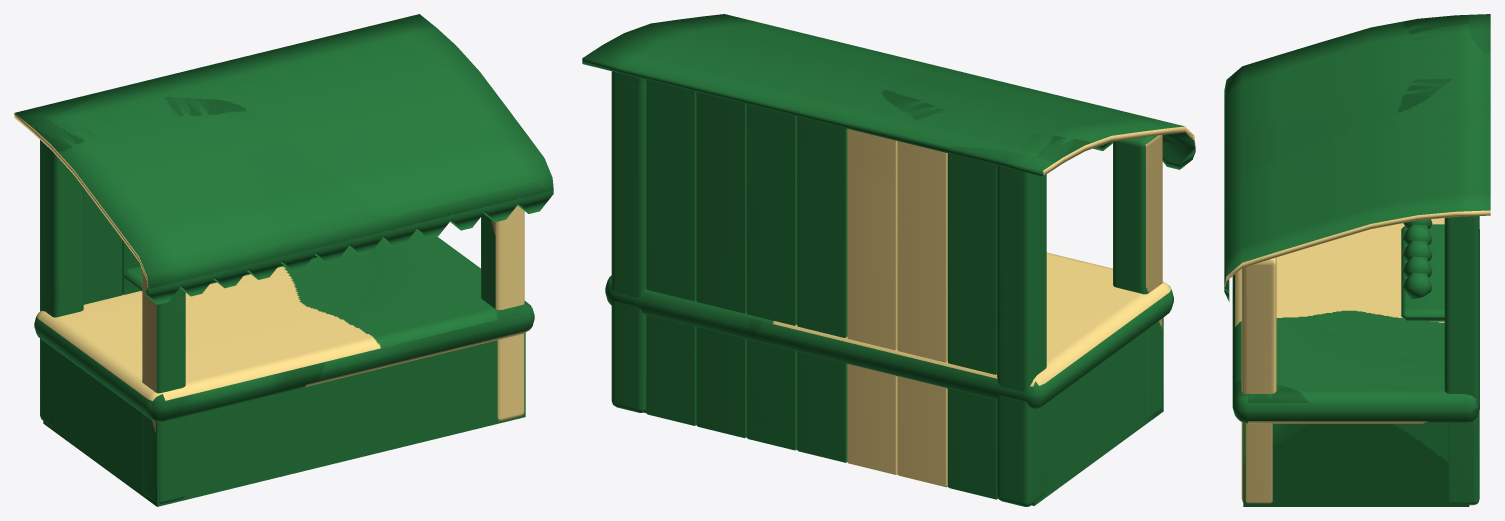
File: stall.fbx
3 views of the same model, side by side, from view 1: azimuth 30°, elevation 25°; view 2: azimuth 150°, elevation 25°; view 3: azimuth 270°, elevation 25° (orthographic). The views are drawn at different scales.
Visible parts, largest first — view 1: stall; view 2: stall; view 3: stall.
Part boxes in pixels (x1,y1,x2,y2): stall: (14, 14, 553, 506); stall: (582, 14, 1195, 506); stall: (1224, 14, 1490, 506).
Size of the model in its own units: 2200 by 1595 by 1260.
